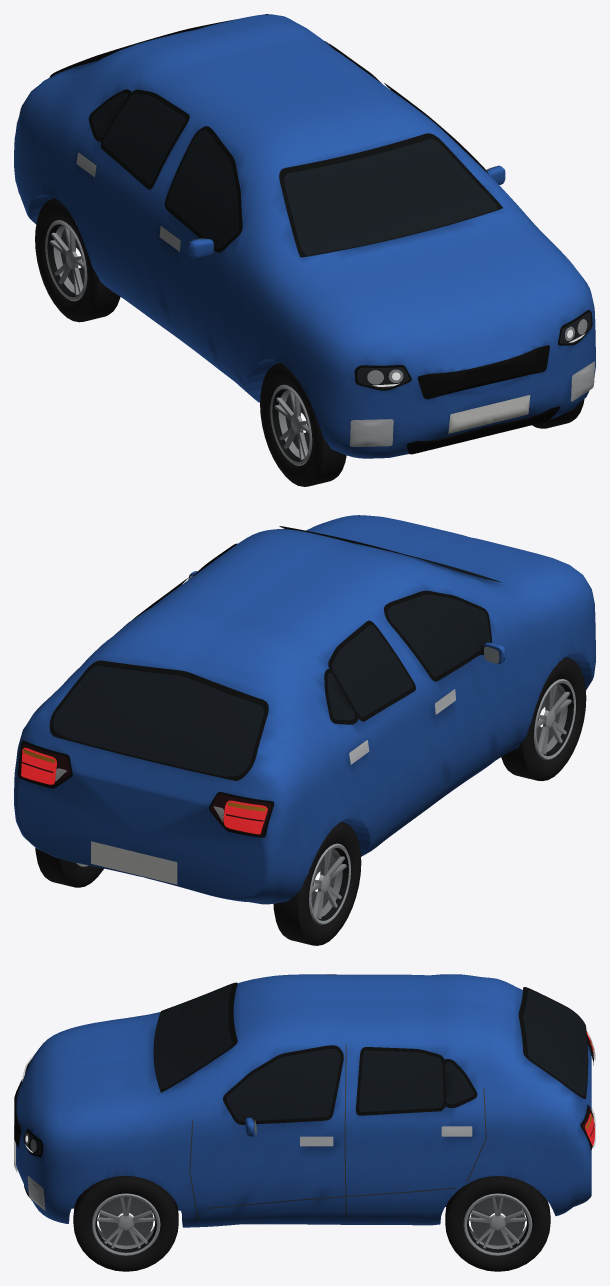
The model's file is compact_suv.glb.
3 views of the same model, one above another, from view 1: azimuth 30°, elevation 25°; view 2: azimuth 150°, elevation 25°; view 3: azimuth 270°, elevation 25° (orthographic). The views are drawn at different scales.
Visible parts, largest first — view 1: body, wheel_FR, wheel_RR; view 2: body, wheel_RR, wheel_FR, wheel_RL; view 3: body, wheel_FL, wheel_RL.
Boxes of the visible parts, x1=… form: body: x1=14, y1=14, x2=595, y2=458; wheel_FR: x1=260, y1=362, x2=346, y2=486; wheel_RR: x1=35, y1=198, x2=120, y2=322; body: x1=14, y1=515, x2=595, y2=904; wheel_RR: x1=273, y1=821, x2=361, y2=945; wheel_FR: x1=501, y1=657, x2=586, y2=780; wheel_RL: x1=35, y1=847, x2=103, y2=887; body: x1=14, y1=974, x2=595, y2=1227; wheel_FL: x1=73, y1=1176, x2=178, y2=1271; wheel_RL: x1=445, y1=1176, x2=550, y2=1271.
Size of the model in its own units: 2.02 by 1.64 by 3.91.
